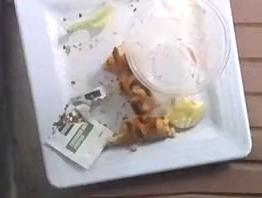pizza_crust: (103, 47, 169, 145), (92, 94, 115, 123)
